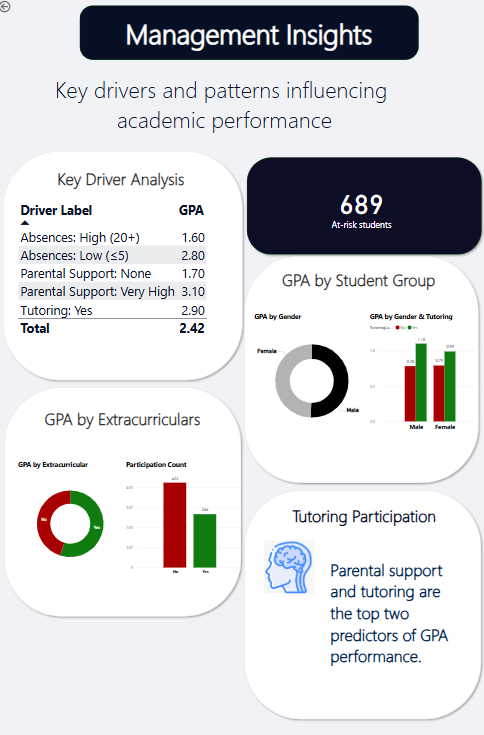

The page's visual inventory and layout, read from the dashboard file:
{"tool":"powerbi","page":{"name":"Management Insights","canvas":[1280,2000],"ordinal":1},"visuals":[{"type":"shape","box":[215.2,17.1,891.6,143.5],"z":0},{"type":"textbox","box":[257.1,35.7,808.6,105.7],"z":1000},{"type":"shape","box":[7.1,391.4,647.1,620],"z":2000},{"type":"shape","box":[640,664.3,632.9,615.7],"z":3000},{"type":"shape","box":[645,406.7,635,273.3],"z":4000},{"type":"shape","box":[11.4,1011.4,640,620],"z":5000},{"type":"shape","box":[640,1278.6,640,620],"z":6000},{"type":"textbox","box":[0,193.3,1193.3,196.7],"z":7000},{"type":"textbox","box":[153.3,435,355,70],"z":8000},{"type":"textbox","box":[743.3,701.7,426.7,85],"z":9000},{"type":"textbox","box":[120,1066.7,431.7,76.7],"z":10000},{"type":"textbox","box":[768.3,1321.7,425,81.7],"z":11000},{"type":"image","box":[661.7,1416.7,206.7,150],"z":13000},{"type":"textbox","box":[868.3,1463.3,335,355],"z":14000},{"type":"card","fields":{"Values":["CountNonNull(Student_performance_data _ (2).StudentID)"]},"box":[826,458,260,172],"z":15000},{"type":"actionButton","box":[0,0,100,40],"z":16000},{"type":"donutChart","fields":{"Category":["Student_performance_data _ (2).GenderLabel"],"Y":["Avg(Student_performance_data _ (2).GPA)"]},"box":[670,818.3,313.3,341.7],"z":17000},{"type":"clusteredColumnChart","title":"GPA by Gender & Tutoring ","fields":{"Category":["Student_performance_data _ (2).GenderLabel"],"Y":["Avg(Student_performance_data _ (2).GPA)"],"Series":["Student_performance_data _ (2).TutoringLabel"]},"box":[973.3,818.3,306.7,325],"z":18000},{"type":"donutChart","fields":{"Category":["Student_performance_data _ (2).ExtracurricularLabel"],"Y":["Avg(Student_performance_data _ (2).GPA)"]},"box":[50,1208.3,285,311.7],"z":19000},{"type":"clusteredColumnChart","title":"Participation Count ","fields":{"Category":["Student_performance_data _ (2).ExtracurricularLabel"],"Y":["CountNonNull(Student_performance_data _ (2).StudentID)"]},"box":[331.7,1208.3,321.7,311.7],"z":20000},{"type":"tableEx","fields":{"Values":["Key Driver Summary.Driver Label","Avg(Key Driver Summary.GPA)"]},"box":[48.3,523.3,563.3,398.3],"z":20001}]}

Visuals, with their boxes in screenshot pixels (x1, y1, x2, y2), scaled from the page's 1280x2000 canvas onto the 484x735 screenshot:
shape: [81,6,419,59]
textbox: [97,13,403,52]
shape: [3,144,247,372]
shape: [242,244,481,470]
shape: [244,149,483,250]
shape: [4,372,246,600]
shape: [242,470,483,698]
textbox: [0,71,451,143]
textbox: [58,160,192,186]
textbox: [281,258,442,289]
textbox: [45,392,209,420]
textbox: [291,486,451,516]
image: [250,521,328,576]
textbox: [328,538,455,668]
card - CountNonNull(Student_performance_data _ (2).StudentID): [312,168,411,232]
actionButton: [0,0,38,15]
donutChart - Student_performance_data _ (2).GenderLabel x Avg(Student_performance_data _ (2).GPA): [253,301,372,426]
"GPA by Gender & Tutoring " clusteredColumnChart: [368,301,483,420]
donutChart - Student_performance_data _ (2).ExtracurricularLabel x Avg(Student_performance_data _ (2).GPA): [19,444,127,559]
"Participation Count " clusteredColumnChart: [125,444,247,559]
tableEx - Key Driver Summary.Driver Label x Avg(Key Driver Summary.GPA): [18,192,231,339]
